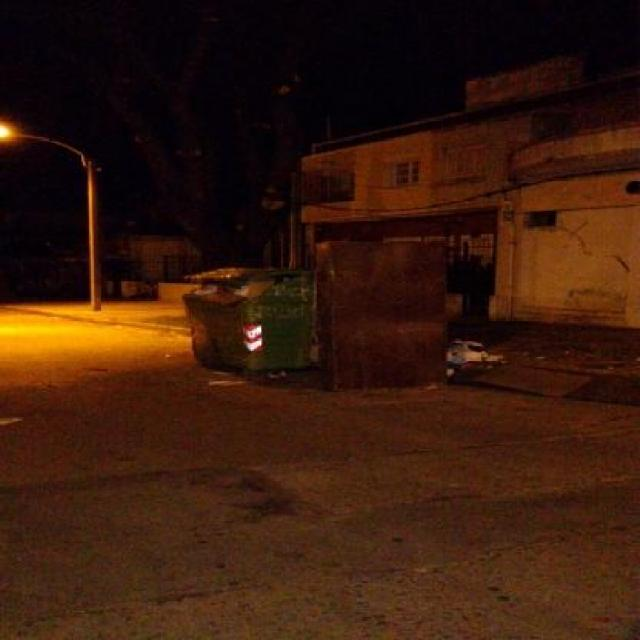garbage: (445, 333, 490, 372)
